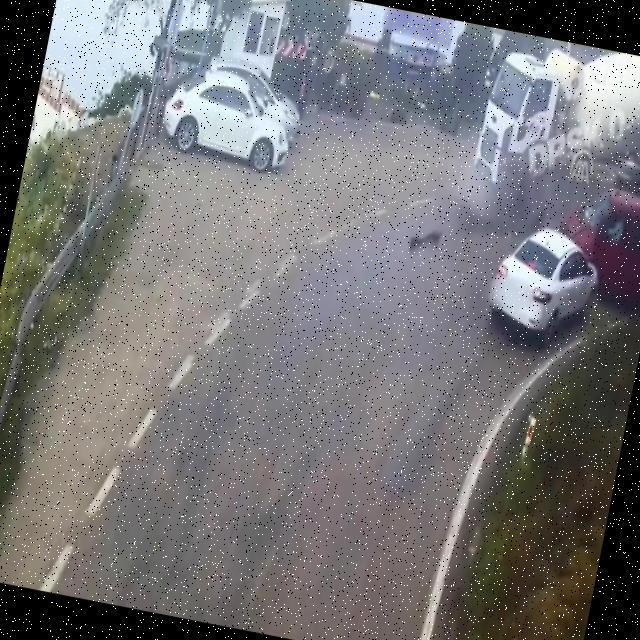accident: (478, 161, 640, 369)
